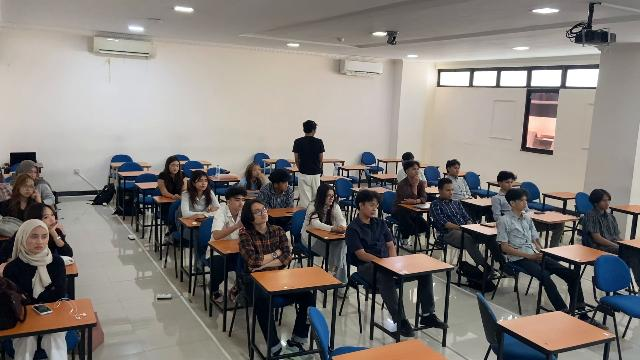fokus: (28, 228, 47, 252), (42, 207, 57, 230), (252, 205, 268, 222), (20, 180, 34, 197), (366, 198, 377, 217), (232, 195, 245, 210), (196, 176, 208, 191), (444, 185, 454, 200), (517, 197, 527, 210), (169, 161, 179, 174), (327, 190, 335, 206), (411, 164, 420, 177), (601, 197, 610, 210), (504, 180, 513, 192), (253, 166, 261, 178), (451, 165, 460, 175)
